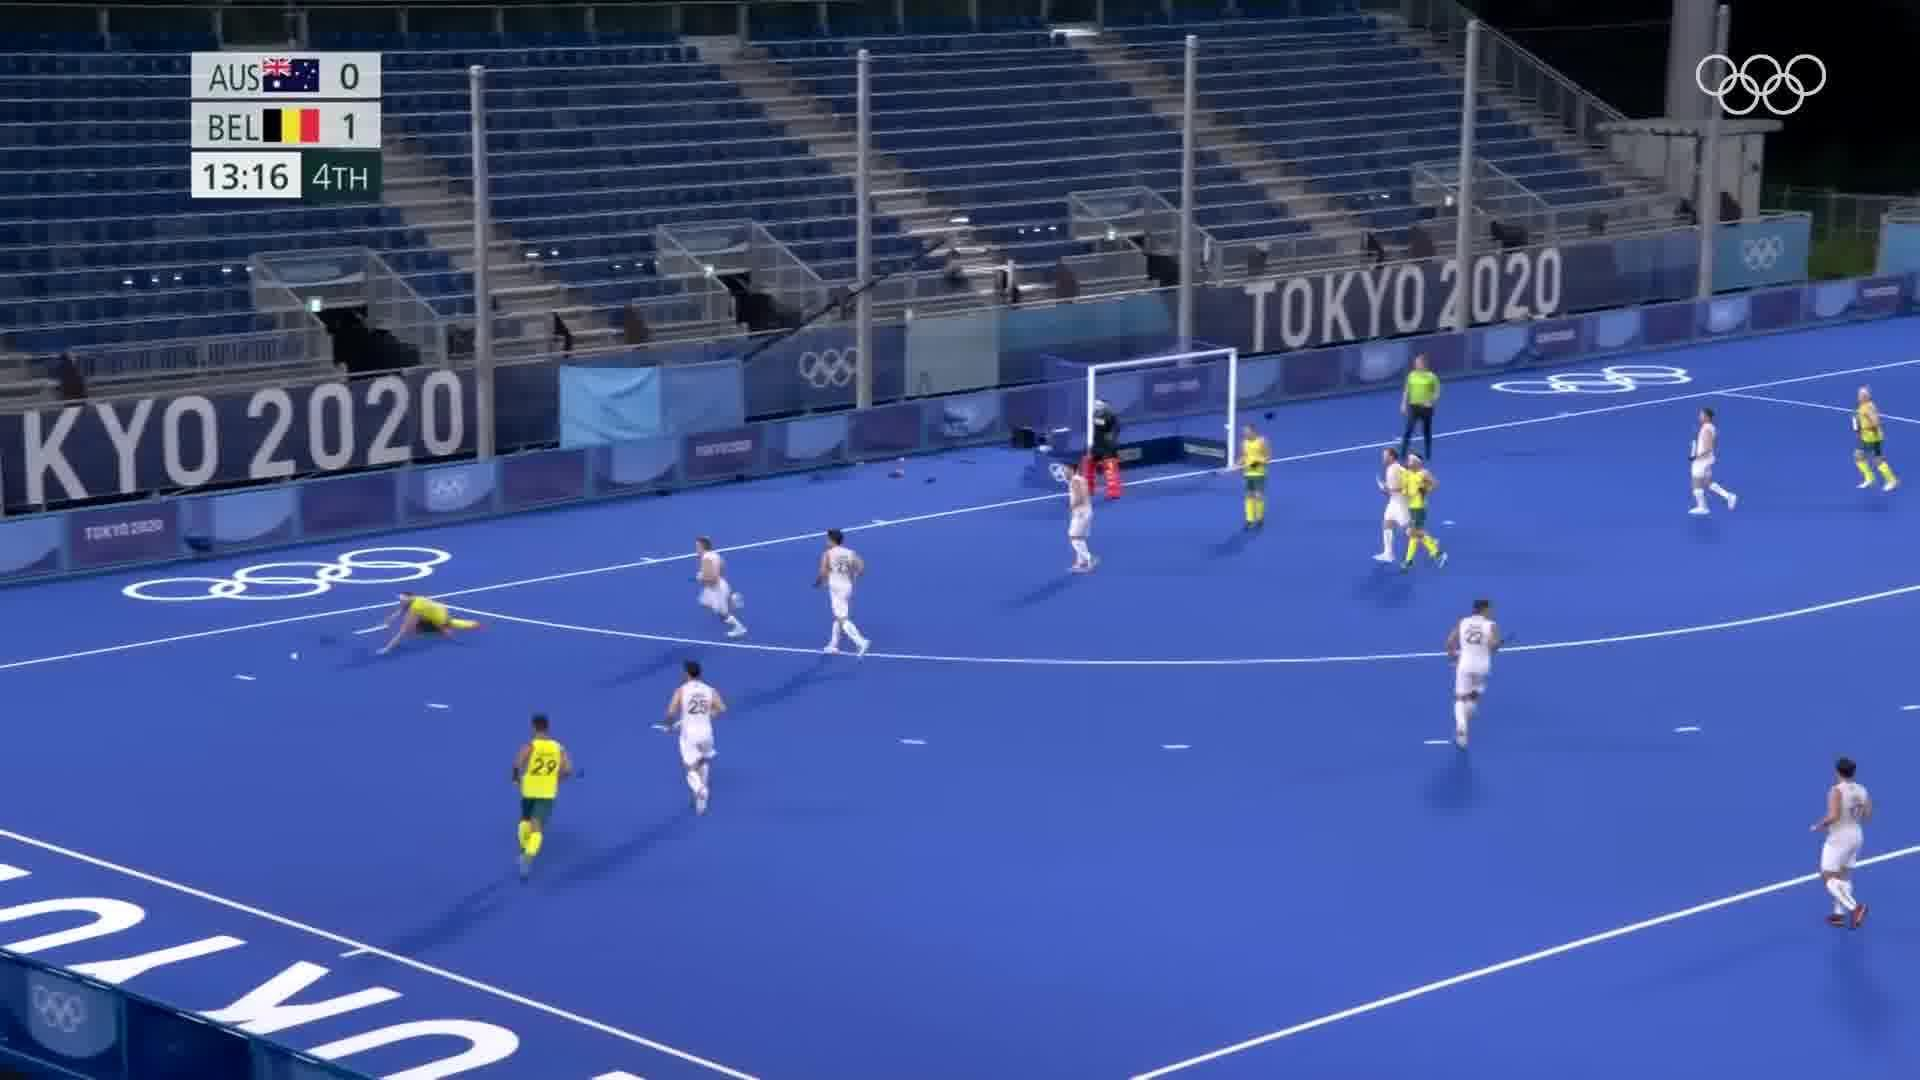ball: (287, 646, 302, 666)
